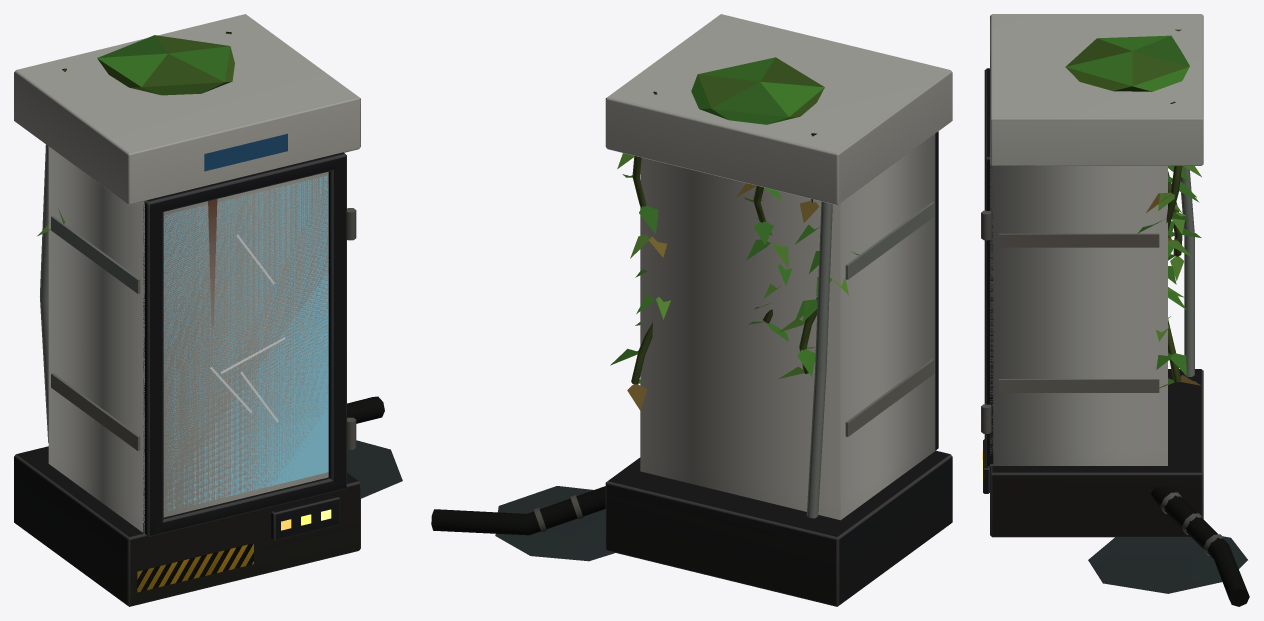
File: cryo_pod.glb
3 renders of one model, left to right at view 1: azimuth 30°, elevation 25°; view 2: azimuth 150°, elevation 25°; view 3: azimuth 270°, elevation 25°, orthographic. The views are drawn at different scales.
Parts seen in each view (by area): view 1: Mesh, Glass; view 2: Mesh; view 3: Mesh.
Part boxes in pixels (left/top/right/bottom): Mesh: left=14, top=14, right=402, bottom=606; Glass: left=163, top=175, right=328, bottom=511; Mesh: left=431, top=14, right=952, bottom=606; Mesh: left=981, top=14, right=1249, bottom=606.
Bounding box in the file's own units: 2.31 × 2.7 × 1.51.
